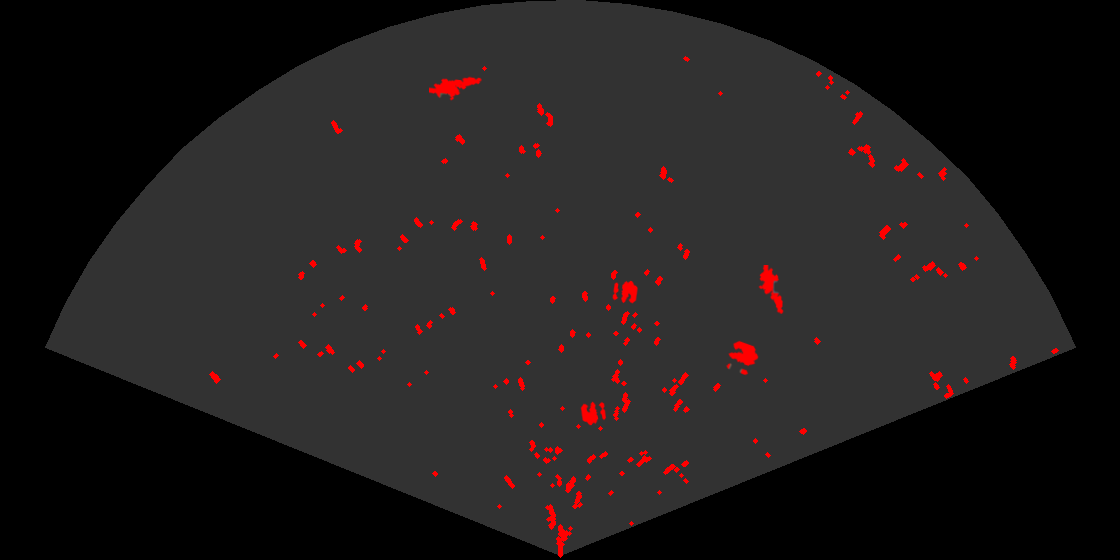ball: (724, 339, 760, 377), (579, 400, 608, 427), (611, 279, 639, 305)
frogman: (429, 75, 482, 102), (757, 265, 785, 314)
